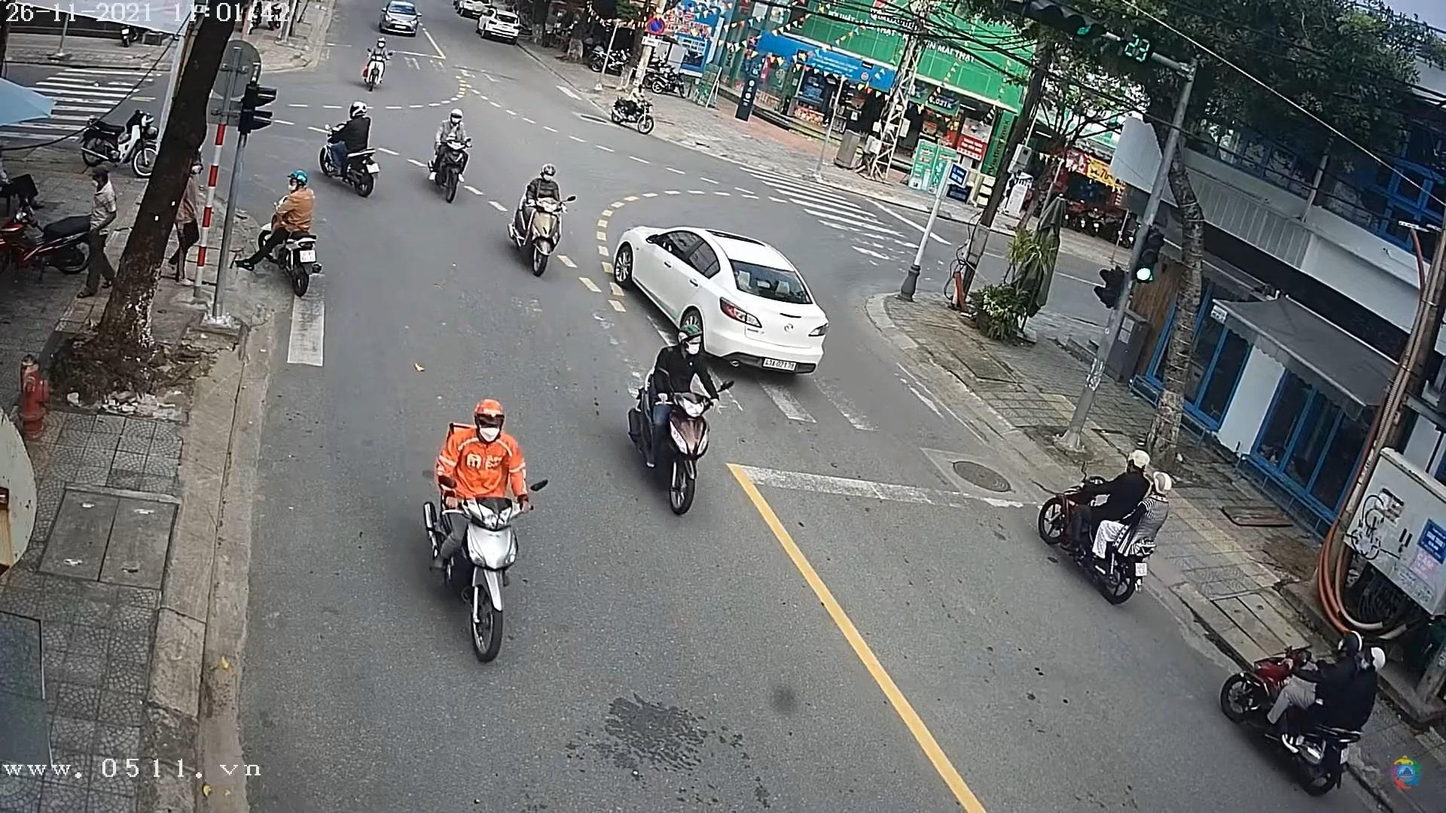car: (609, 227, 832, 375), (378, 2, 418, 36), (453, 2, 496, 20)
motorbike: (423, 465, 542, 672), (1222, 623, 1358, 799), (1036, 458, 1155, 606), (622, 373, 721, 522), (253, 179, 328, 300), (513, 179, 571, 277), (322, 116, 382, 198), (428, 132, 471, 210)
